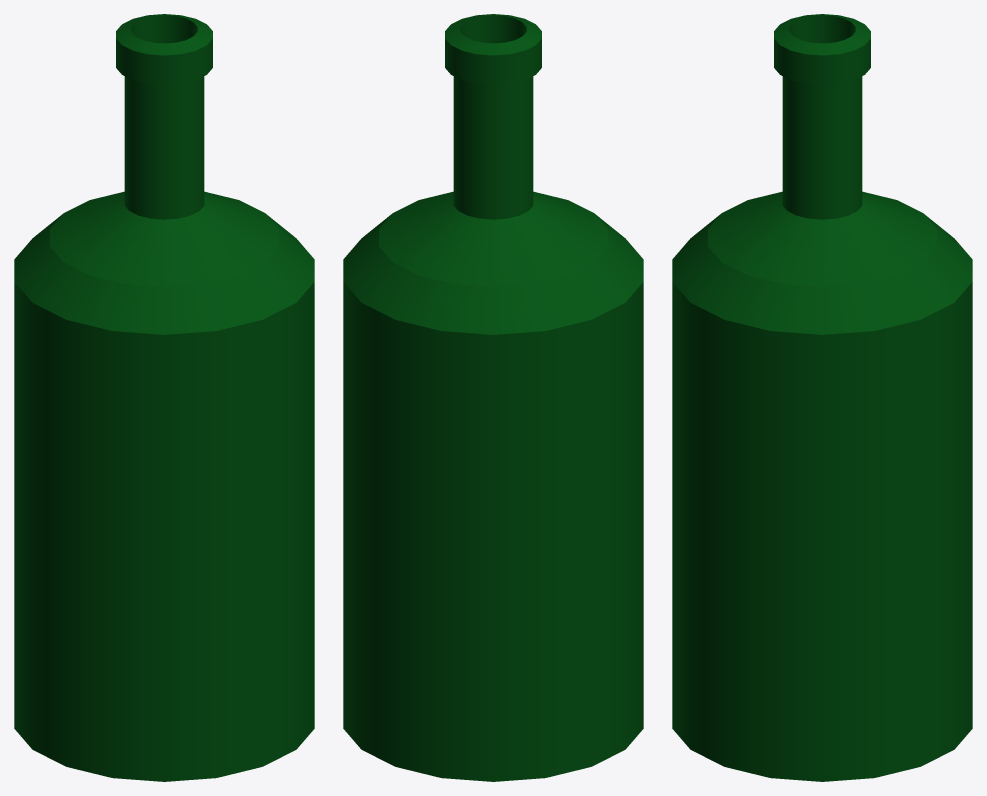
The model's file is Unwrapped_bottle24.fbx.
3 renders of one model, left to right at view 1: azimuth 30°, elevation 25°; view 2: azimuth 150°, elevation 25°; view 3: azimuth 270°, elevation 25°, orthographic.
Visible parts, largest first — view 1: Cylinder001; view 2: Cylinder001; view 3: Cylinder001.
Boxes of the visible parts, <box> form: Cylinder001: <box>14,14,314,781</box>; Cylinder001: <box>343,14,643,781</box>; Cylinder001: <box>672,14,972,781</box>.
Bounding box in the file's own units: 19.14 × 47.71 × 18.85.
